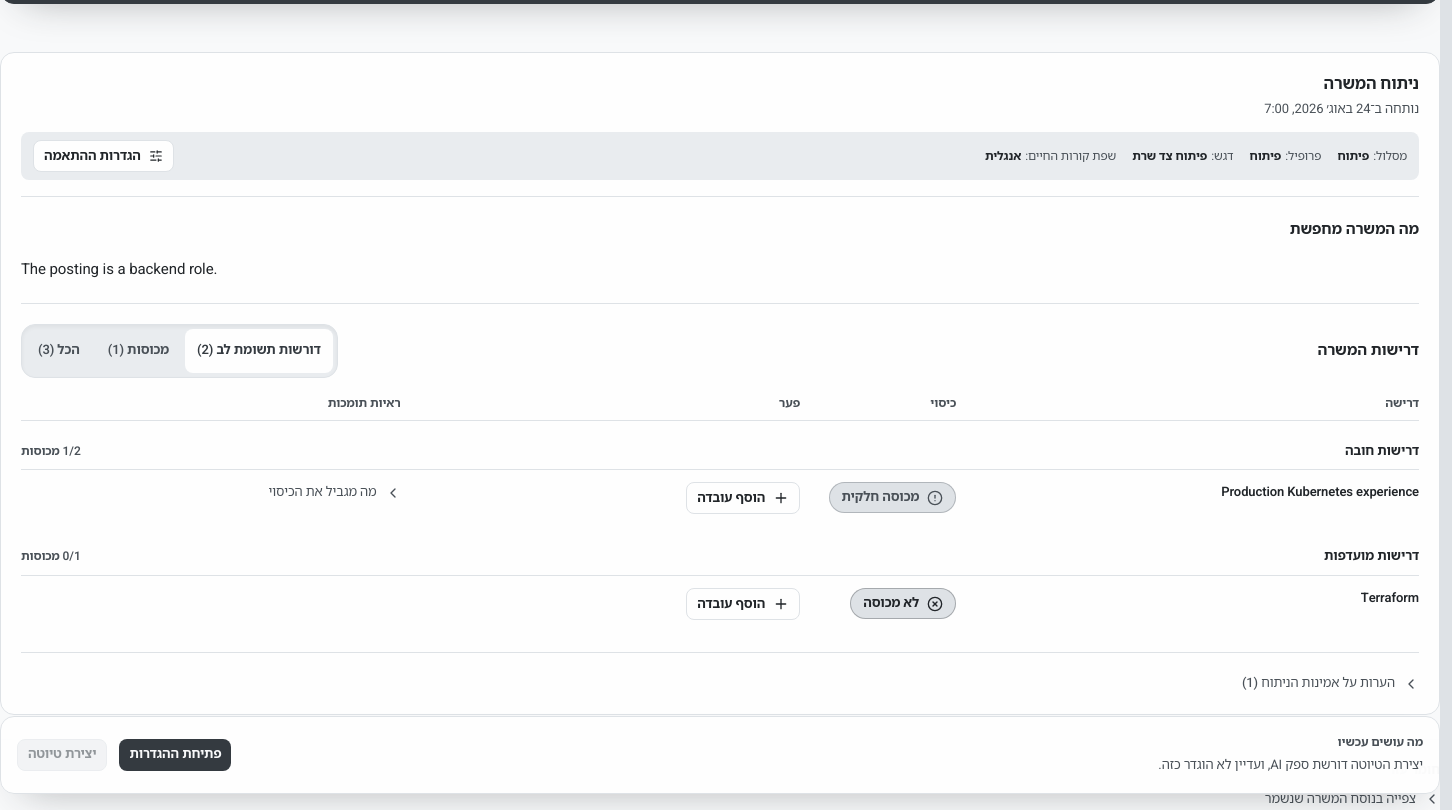
ApplicationPage at the preparation route › shows requirement coverage, resolving supporting facts by id, once the analysis carries requirements
(page scrolled)
expect the text "Production Kubernetes experience" is shown: met, box x1=1221 y1=482 x2=1419 y2=502
expect the text "Terraform" is shown: met, box x1=1361 y1=588 x2=1419 y2=607
Click the button "הכל (3)". click: (59, 351)
box: x1=26 y1=329 x2=92 y2=373
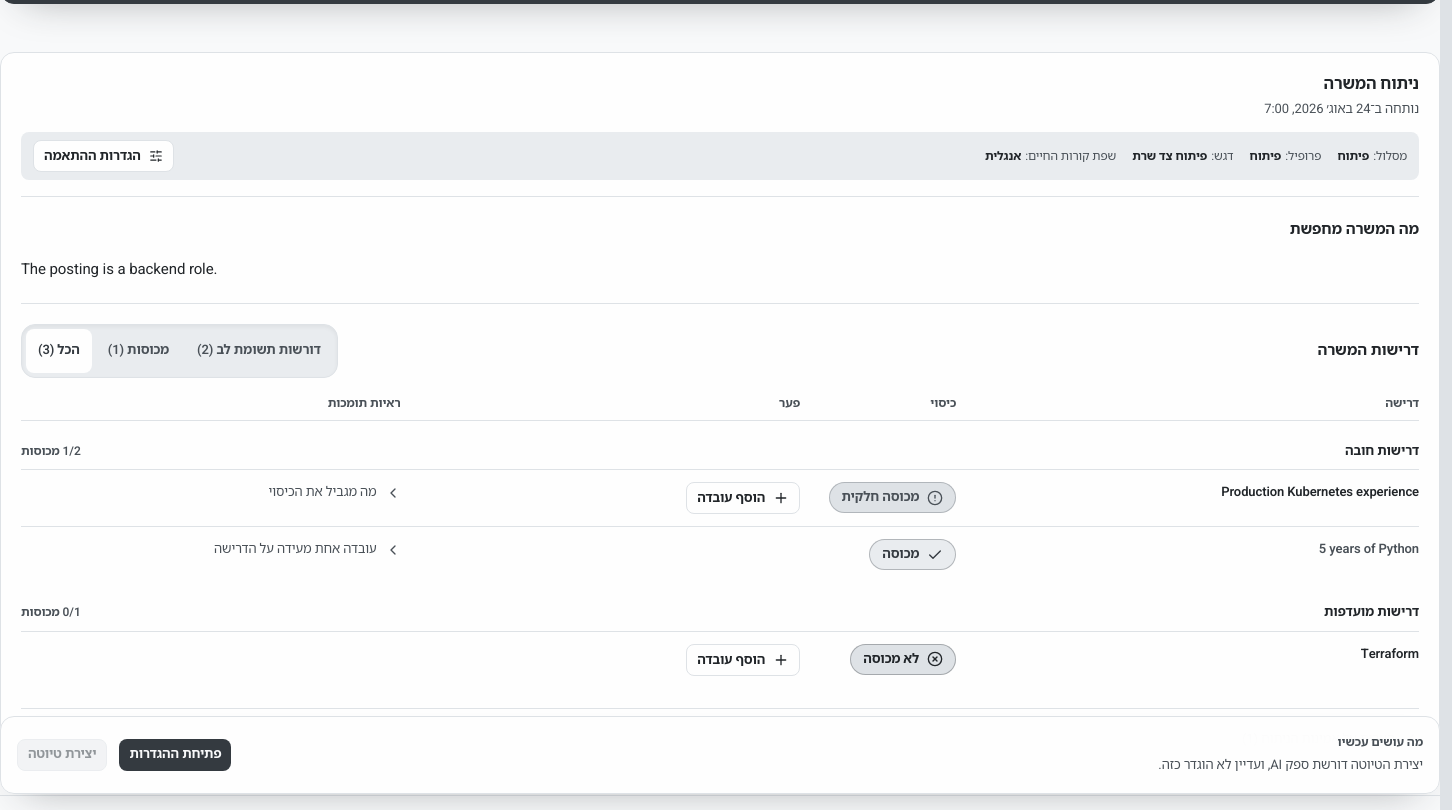
expect the text "Terraform" is shown: met, box x1=1361 y1=644 x2=1419 y2=663
expect the text "5 years of Python" is shown: met, box x1=1319 y1=540 x2=1419 y2=558
expect the text "עובדה אחת מעידה על הדרישה" is shown: met, box x1=214 y1=540 x2=377 y2=560
